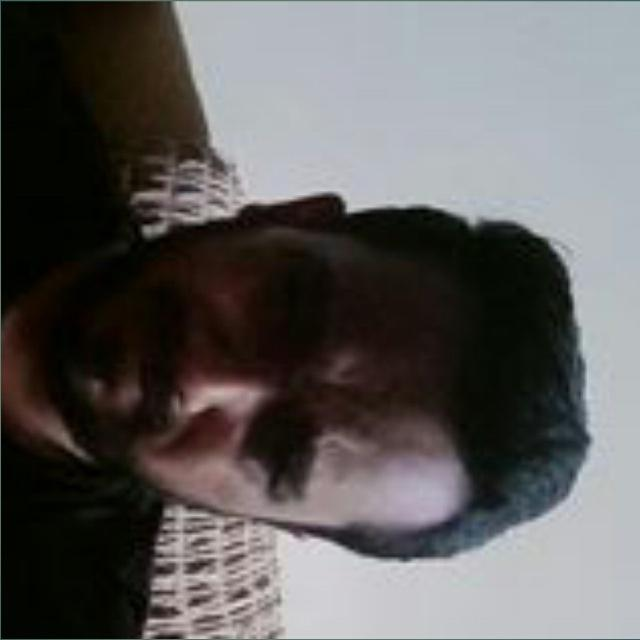Disgust: (35, 197, 518, 555)
